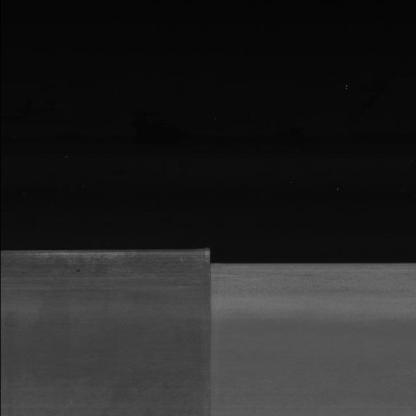welding_line: (194, 242, 228, 416)
